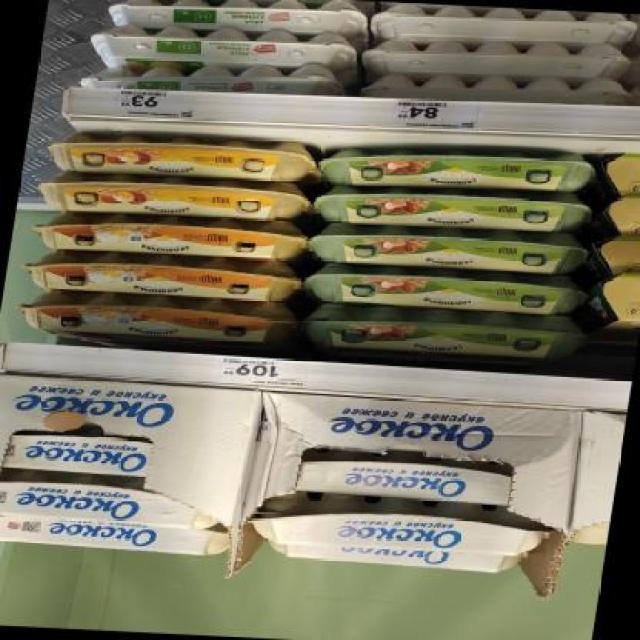Egg: (254, 491, 548, 560), (9, 288, 302, 350), (303, 302, 589, 363), (19, 248, 306, 304), (318, 141, 602, 196), (304, 262, 593, 316), (308, 182, 597, 235), (87, 21, 360, 77), (27, 208, 310, 262), (307, 222, 590, 276), (41, 129, 319, 183), (31, 169, 314, 222), (0, 469, 222, 531), (293, 449, 516, 506), (80, 55, 346, 99), (0, 511, 240, 555), (100, 0, 369, 37), (2, 429, 156, 476), (578, 273, 640, 338), (588, 233, 640, 276), (594, 196, 640, 238), (600, 154, 640, 197)
